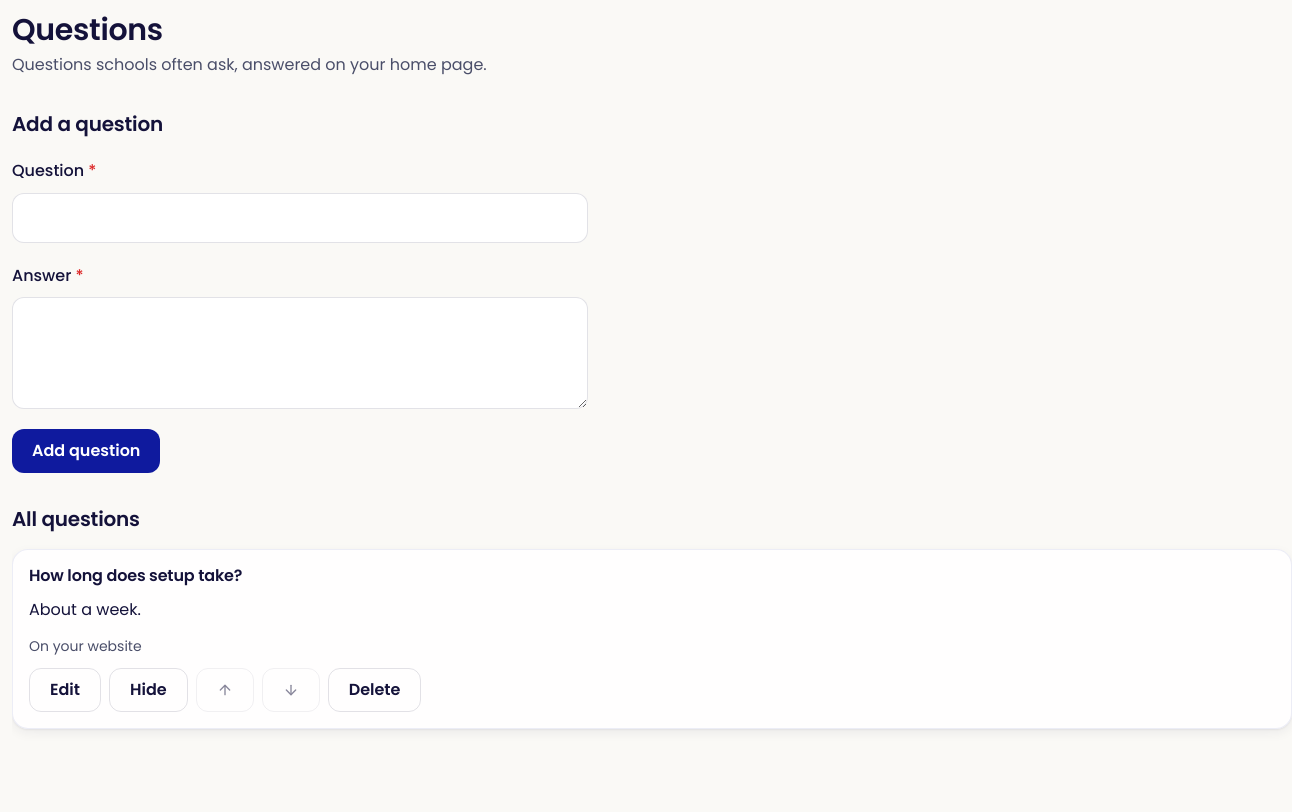
Test: FaqsManager › deletes a question after asking
Click the button "Delete": (375, 690) [328,668,422,712]
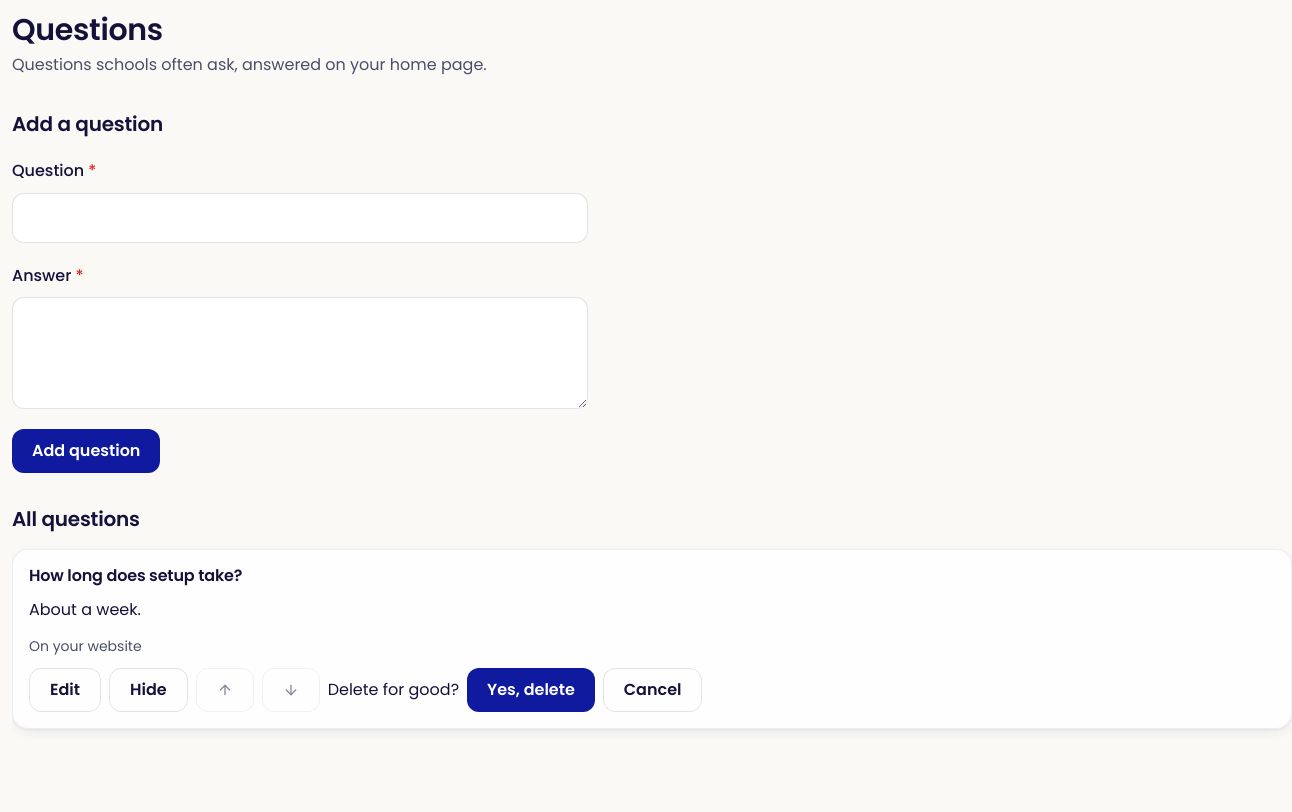
Click the button "Yes, delete": (531, 690) [467,668,595,712]
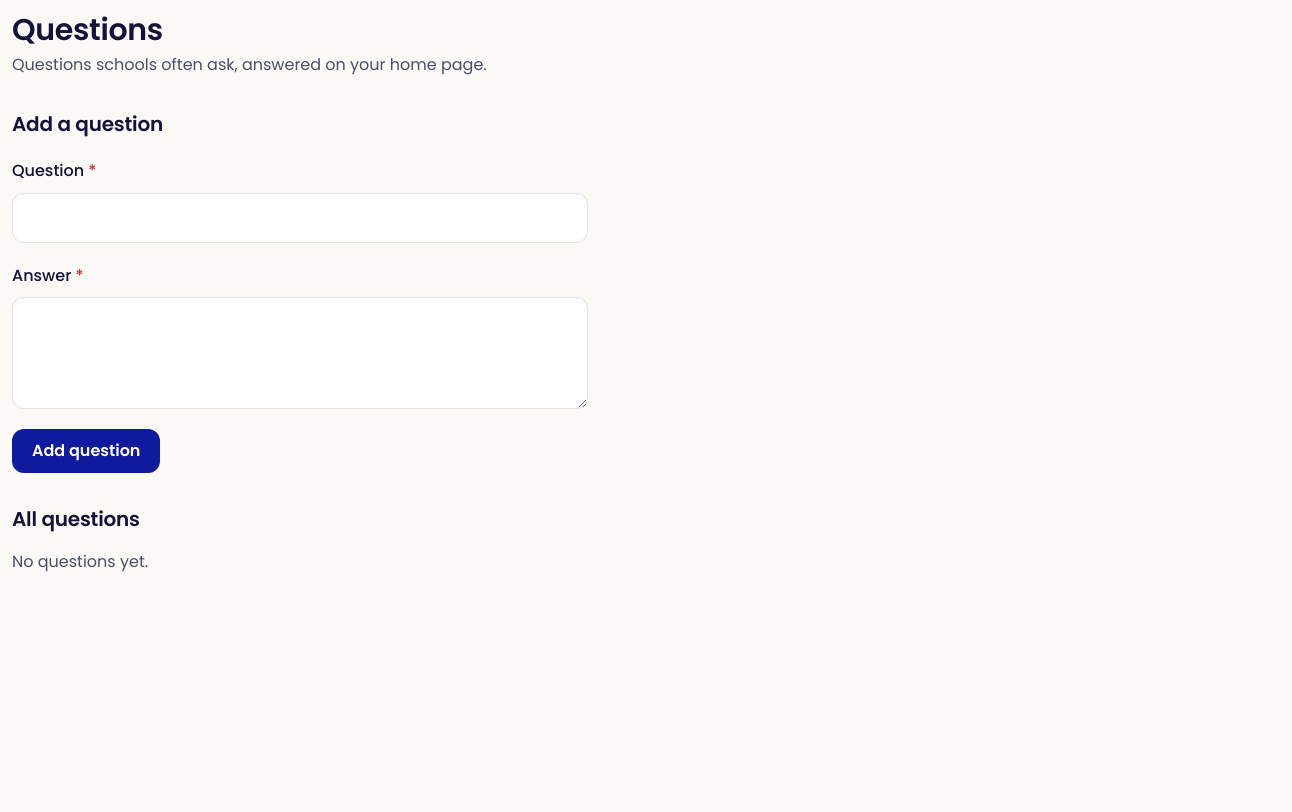
Check: the text "No questions yet." is shown, box [12,550,148,573]
